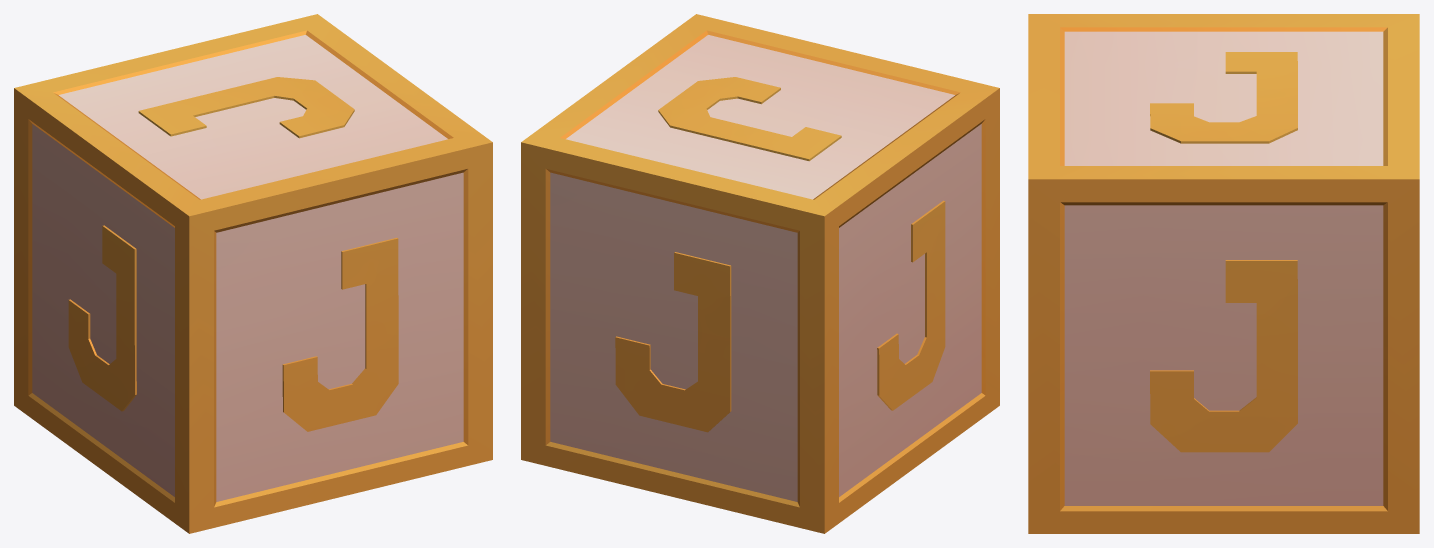
Rendered from Doll_OB_Blocks_010.FBX.
3 renders of one model, left to right at view 1: azimuth 30°, elevation 25°; view 2: azimuth 150°, elevation 25°; view 3: azimuth 270°, elevation 25°, orthographic. The views are drawn at different scales.
Visible parts, largest first — view 1: Doll_OB_Blocks_010; view 2: Doll_OB_Blocks_010; view 3: Doll_OB_Blocks_010.
Boxes of the visible parts, x1,y1,x2,y2 form: Doll_OB_Blocks_010: (14,14,492,533); Doll_OB_Blocks_010: (521,14,999,533); Doll_OB_Blocks_010: (1028,14,1419,533).
Bounding box in the file's own units: 20.66 × 20.66 × 20.66.
